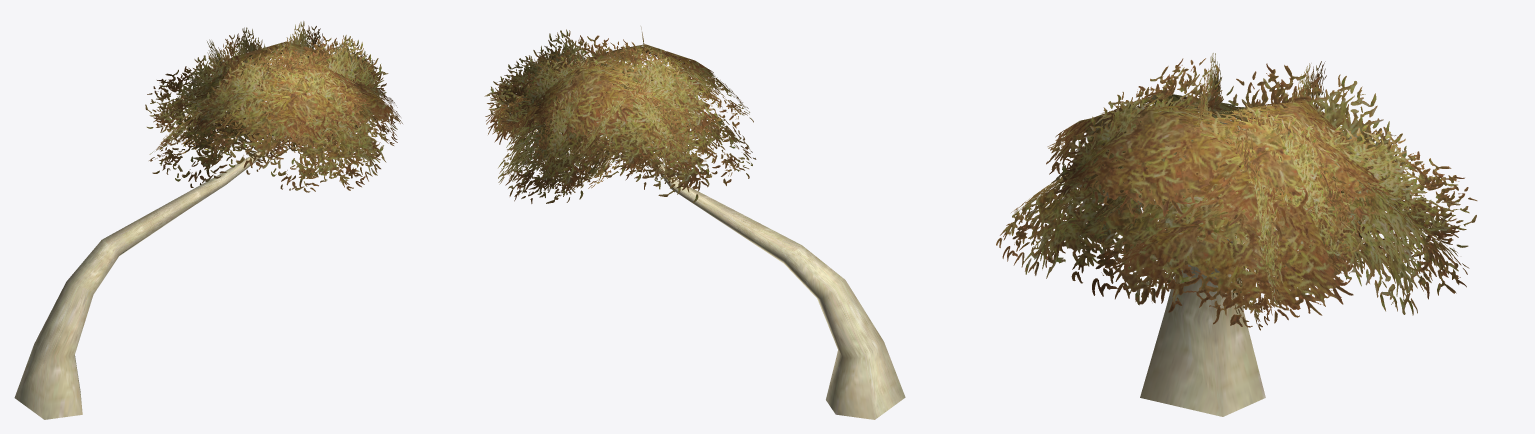
File: decd_windswept_a4_l1.fbx
3 views of the same model, side by side, from view 1: azimuth 30°, elevation 25°; view 2: azimuth 150°, elevation 25°; view 3: azimuth 270°, elevation 25° (orthographic). The views are drawn at different scales.
Parts seen in each view (by area): view 1: mesh_node; view 2: mesh_node; view 3: mesh_node.
Part boxes in pixels (bbox=[...]): mesh_node: bbox=[14, 21, 402, 419]; mesh_node: bbox=[484, 27, 905, 419]; mesh_node: bbox=[996, 53, 1477, 416].
Bounding box in the file's own units: 8.14 × 6.35 × 6.1.
